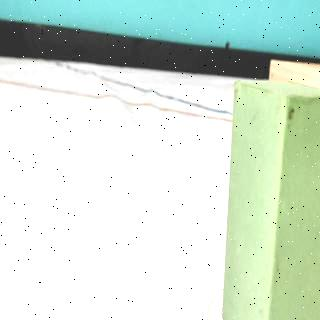greenbox: (221, 77, 320, 320)
